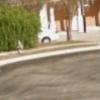bicycles: (70, 3, 100, 36)
